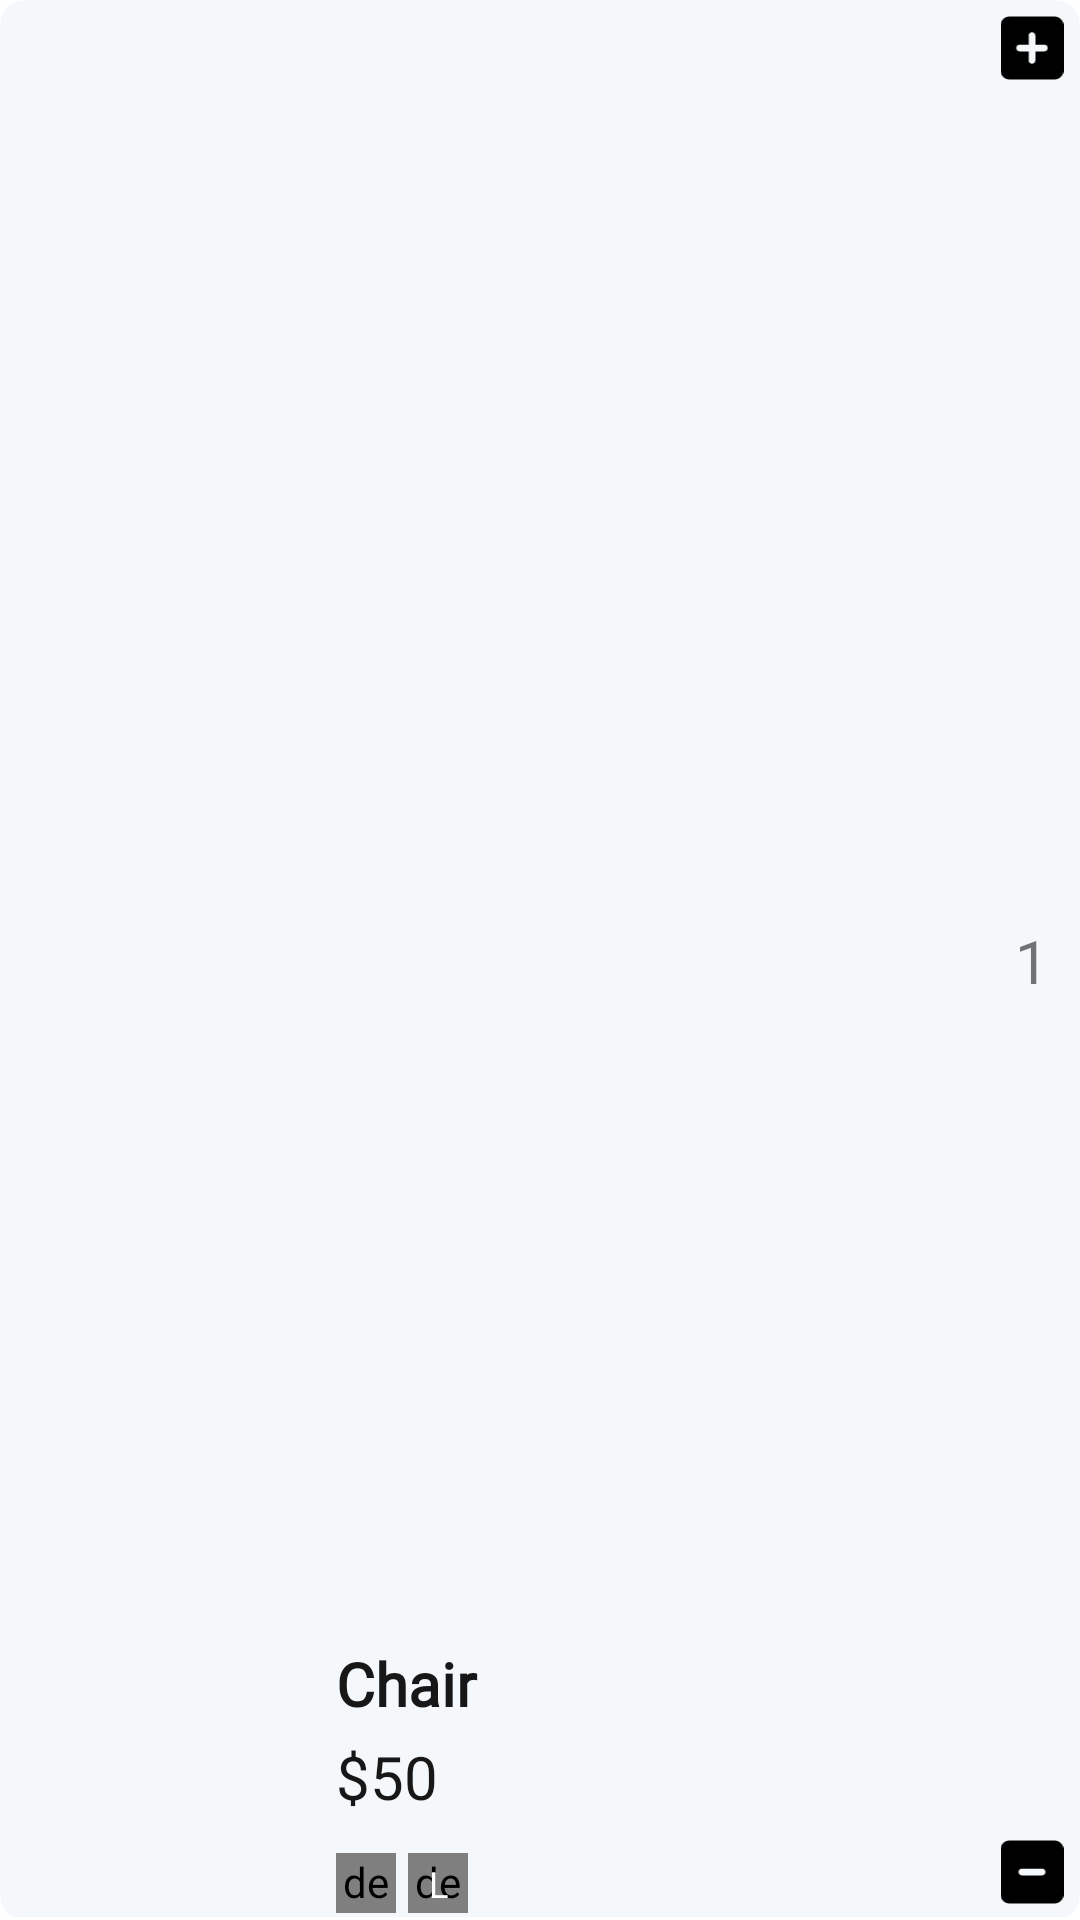

Where to tap for icons on this 1080px x 1920px app screen, as (x=x, y=y):
square minus: (x=1032, y=1872)
square plus: (x=1032, y=48)
